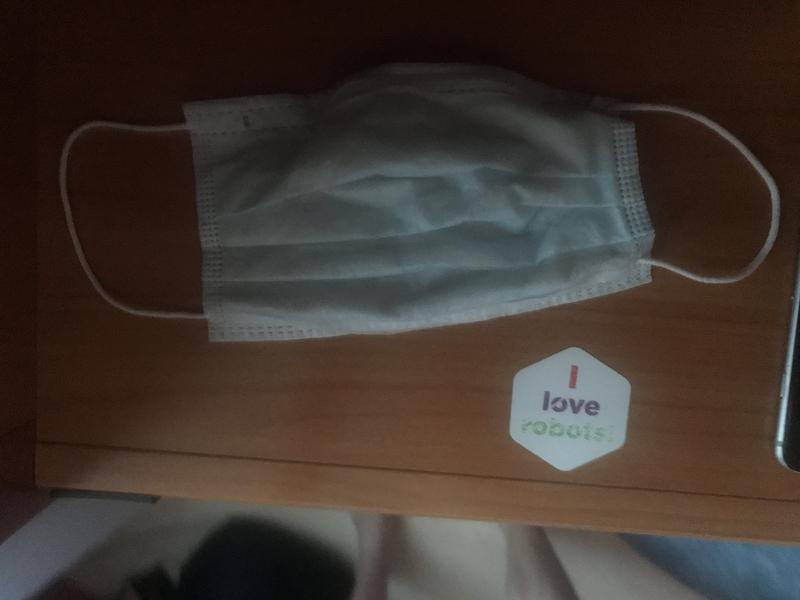medical_mask: (58, 63, 782, 339)
